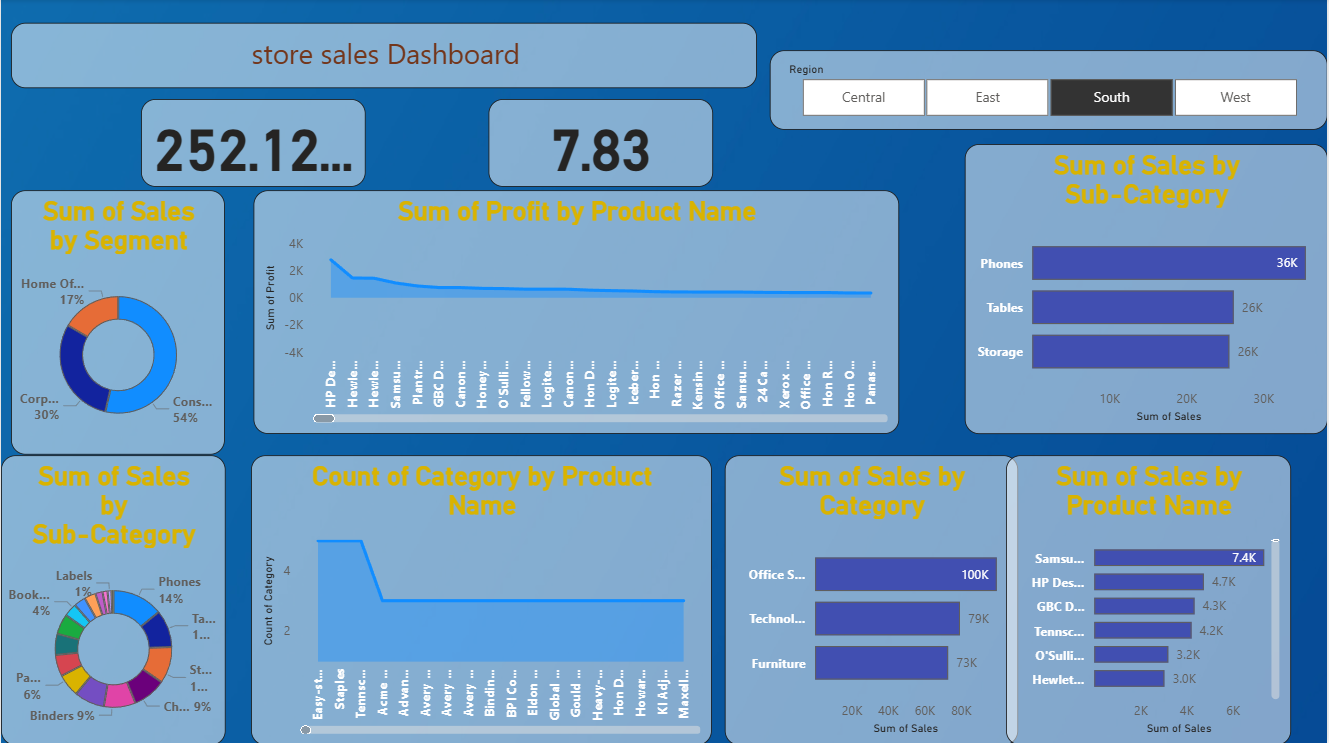

What the dashboard file says about the page in this screenshot:
{"tool":"powerbi","page":{"name":"Page 1","canvas":[1280,720],"ordinal":0},"visuals":[{"type":"clusteredBarChart","fields":{"Category":["SuperStore_Sales_Dataset.Category"],"Y":["Sum(SuperStore_Sales_Dataset.Sales)"]},"box":[698.3,440,283.3,280],"z":0},{"type":"clusteredBarChart","fields":{"Category":["SuperStore_Sales_Dataset.Sub-Category"],"Y":["Sum(SuperStore_Sales_Dataset.Sales)"]},"box":[930,140,350,280],"z":1000},{"type":"stackedAreaChart","fields":{"Category":["SuperStore_Sales_Dataset.Product Name"],"Y":["CountNonNull(SuperStore_Sales_Dataset.Category)"]},"box":[241.7,440,445,280],"z":2000},{"type":"stackedAreaChart","fields":{"Category":["SuperStore_Sales_Dataset.Product Name"],"Y":["Sum(SuperStore_Sales_Dataset.Profit)"]},"box":[243.3,185,623.3,235],"z":3000},{"type":"donutChart","fields":{"Category":["SuperStore_Sales_Dataset.Segment"],"Y":["Sum(SuperStore_Sales_Dataset.Sales)"]},"box":[10,185,206.7,255],"z":4000},{"type":"donutChart","fields":{"Category":["SuperStore_Sales_Dataset.Sub-Category"],"Y":["Sum(SuperStore_Sales_Dataset.Sales)"]},"box":[0,440,216.7,280],"z":5000},{"type":"slicer","fields":{"Values":["SuperStore_Sales_Dataset.Region"]},"box":[741.7,50,538.3,76.7],"z":6000},{"type":"clusteredBarChart","fields":{"Y":["Sum(SuperStore_Sales_Dataset.Sales)"],"Category":["SuperStore_Sales_Dataset.Product Name"]},"box":[970,440,275,280],"z":7000},{"type":"textbox","box":[10,23.3,720,63.3],"z":8000},{"type":"card","fields":{"Values":["Sum(SuperStore_Sales_Dataset.Sales)"]},"box":[135,96.7,216.7,85],"z":9000},{"type":"card","fields":{"Values":["Avg(SuperStore_Sales_Dataset.AvgDelivery)"]},"box":[470,96.7,216.7,85],"z":10000}]}

Visuals, with their boxes in screenshot pixels (x1, y1, x2, y2), scaled from the page's 1280x720 canvas onto the 1329x743 screenshot:
clusteredBarChart - SuperStore_Sales_Dataset.Category x Sum(SuperStore_Sales_Dataset.Sales): bbox=[725, 454, 1019, 742]
clusteredBarChart - SuperStore_Sales_Dataset.Sub-Category x Sum(SuperStore_Sales_Dataset.Sales): bbox=[966, 144, 1328, 433]
stackedAreaChart - SuperStore_Sales_Dataset.Product Name x CountNonNull(SuperStore_Sales_Dataset.Category): bbox=[251, 454, 713, 742]
stackedAreaChart - SuperStore_Sales_Dataset.Product Name x Sum(SuperStore_Sales_Dataset.Profit): bbox=[253, 191, 900, 433]
donutChart - SuperStore_Sales_Dataset.Segment x Sum(SuperStore_Sales_Dataset.Sales): bbox=[10, 191, 225, 454]
donutChart - SuperStore_Sales_Dataset.Sub-Category x Sum(SuperStore_Sales_Dataset.Sales): bbox=[0, 454, 225, 742]
slicer - SuperStore_Sales_Dataset.Region: bbox=[770, 52, 1328, 131]
clusteredBarChart - Sum(SuperStore_Sales_Dataset.Sales) x SuperStore_Sales_Dataset.Product Name: bbox=[1007, 454, 1293, 742]
textbox: bbox=[10, 24, 758, 89]
card - Sum(SuperStore_Sales_Dataset.Sales): bbox=[140, 100, 365, 188]
card - Avg(SuperStore_Sales_Dataset.AvgDelivery): bbox=[488, 100, 713, 188]
